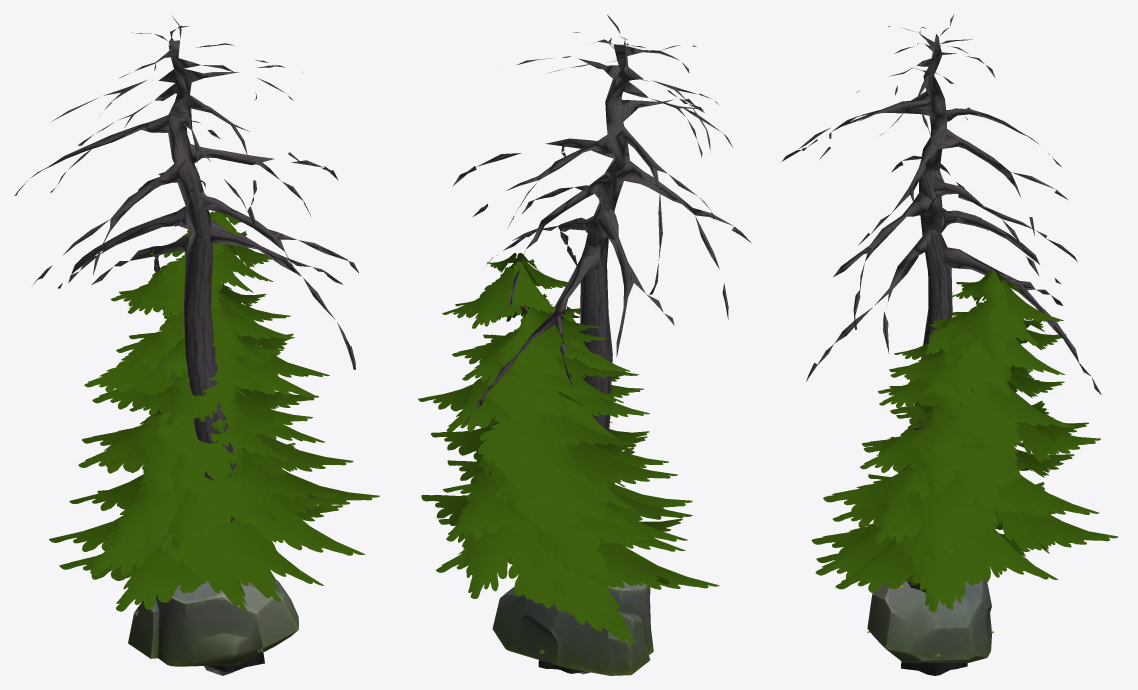
Rendered from forest.glb.
3 views of the same model, side by side, from view 1: azimuth 30°, elevation 25°; view 2: azimuth 150°, elevation 25°; view 3: azimuth 270°, elevation 25° (orthographic). The views are drawn at different scales.
Visible parts, largest first — view 1: Pine_5, Pine_2, DeadTree_3, Rock_Medium_2; view 2: Pine_5, DeadTree_3, Pine_2, Rock_Medium_2; view 3: Pine_5, DeadTree_3, Pine_2, Rock_Medium_2.
Boxes of the visible parts, x1=… form: Pine_5: x1=49, y1=211, x2=379, y2=602; Pine_2: x1=59, y1=293, x2=343, y2=611; DeadTree_3: x1=14, y1=16, x2=358, y2=672; Rock_Medium_2: x1=128, y1=578, x2=298, y2=666; Pine_5: x1=418, y1=253, x2=701, y2=630; DeadTree_3: x1=453, y1=14, x2=751, y2=673; Pine_2: x1=436, y1=306, x2=719, y2=644; Rock_Medium_2: x1=492, y1=580, x2=653, y2=675; Pine_5: x1=816, y1=269, x2=1118, y2=612; DeadTree_3: x1=781, y1=14, x2=1101, y2=675; Pine_2: x1=811, y1=317, x2=1058, y2=609; Rock_Medium_2: x1=867, y1=580, x2=991, y2=662.
Bounding box in the file's own units: 7.26 × 13.53 × 6.81.
Materials: 12 (12 with a texture image).
